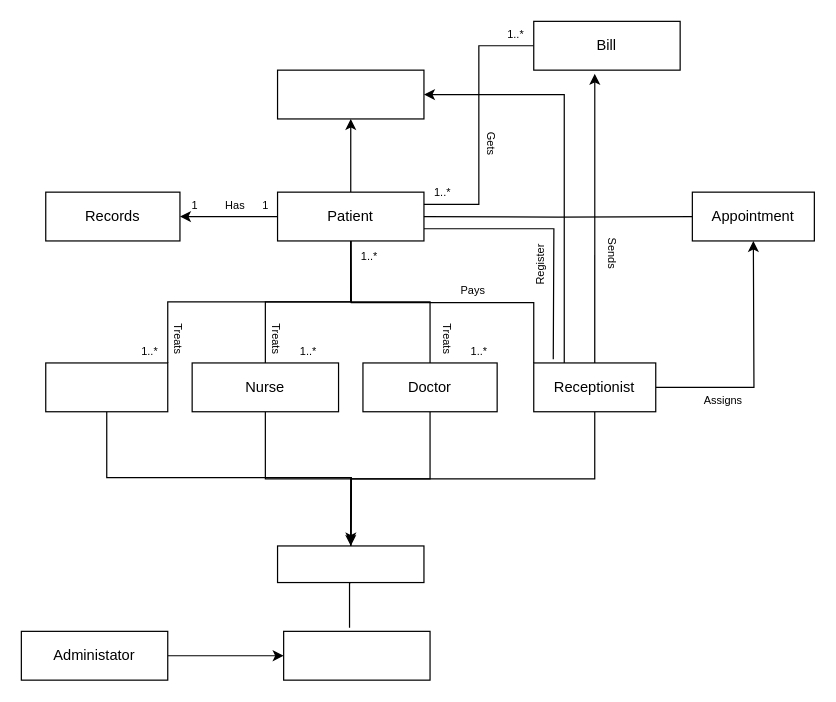
This 836x702 diagram has some shape labels left out. Here are the shapes that lost their labels. From the top down, the centre of each, then its label:
At [350,94]: "Pharmacy".
At [106,387]: "Specialists".
At [350,564]: "Staff".
At [356,655]: "Hospital".
